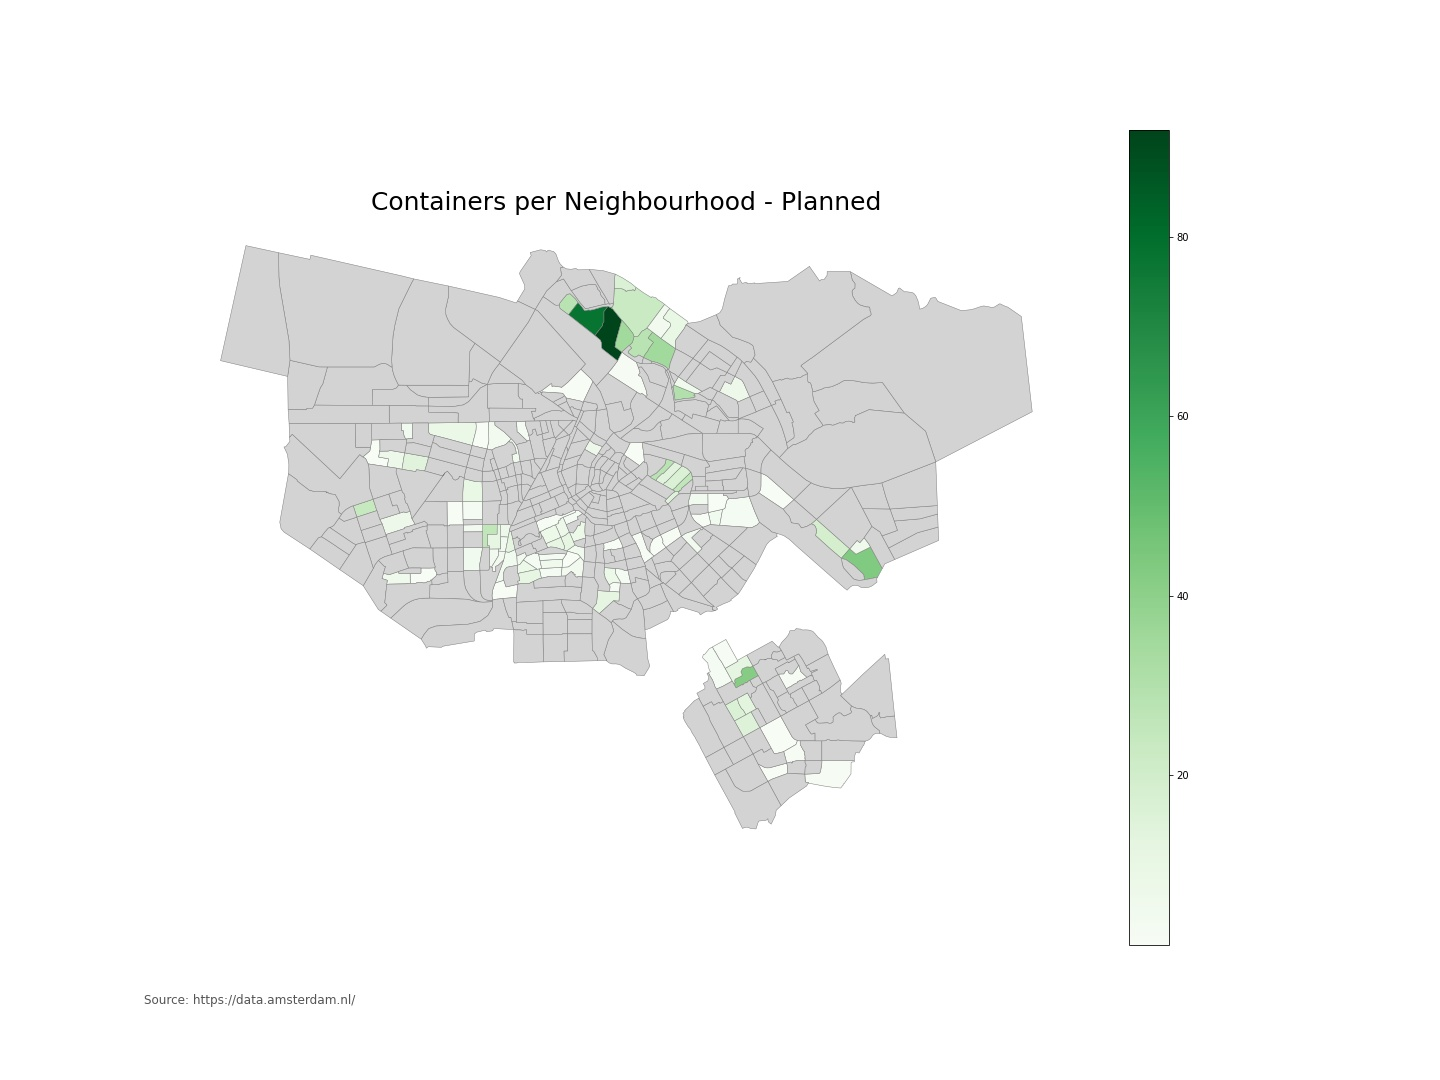

This screenshot's page, from the dashboard's own definition file:
{"tool":"tableau","page":{"name":"Home","canvas":[1000,1000],"units":"permille","ordinal":0},"visuals":[{"type":"currpage","title":"Dashboard Header","box":[4.6,8.8,169,53.6]},{"type":"worksheet","title":"Dashboard Header","mark":"Automatic","box":[173.6,8.8,821.8,103.7]},{"type":"worksheet","title":"Density Map","mark":"Automatic","box":[4.6,112.5,990.9,878.8]}]}

Visuals, with their boxes on the dashboard's canvas, which has no fixed pixel size, in thousandths of its width and height (x1, y1, x2, y2). These are canvas units, not pixel positions in the 1440x1080 screenshot, which may show the page scaled, cropped or inside an application window:
"Dashboard Header" currpage: l=5, t=9, r=174, b=62
"Dashboard Header" worksheet: l=174, t=9, r=995, b=112
"Density Map" worksheet: l=5, t=112, r=996, b=991
